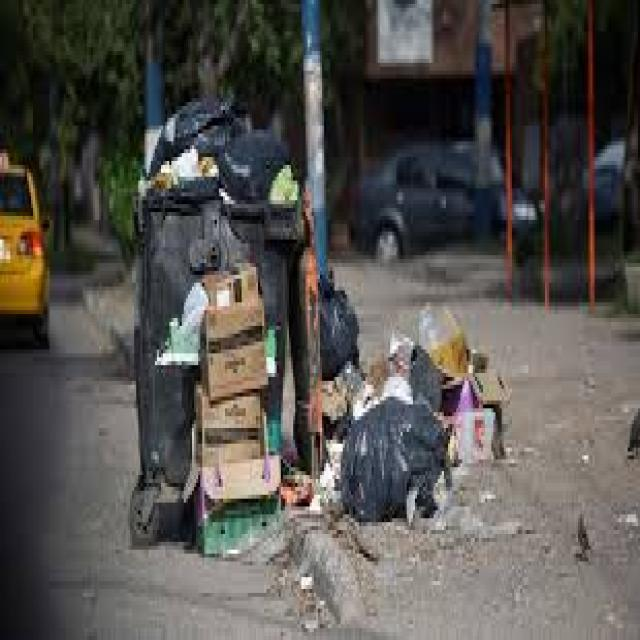garbage: (108, 74, 510, 560)
